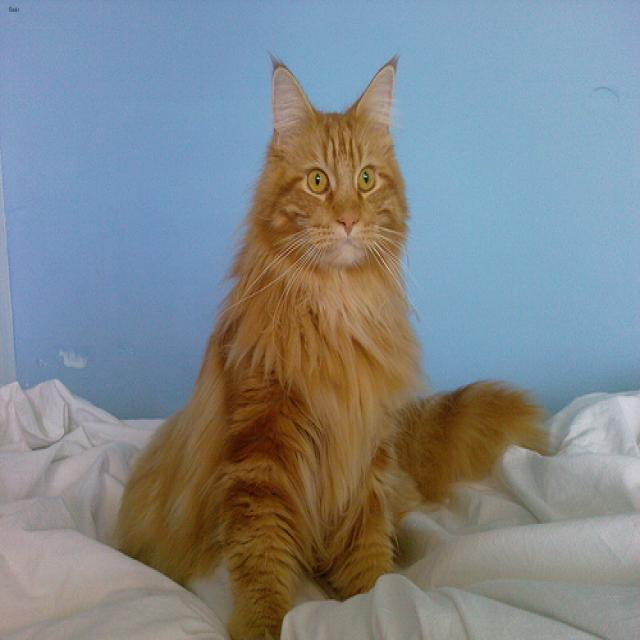Maine_Coon: (266, 58, 401, 263)
